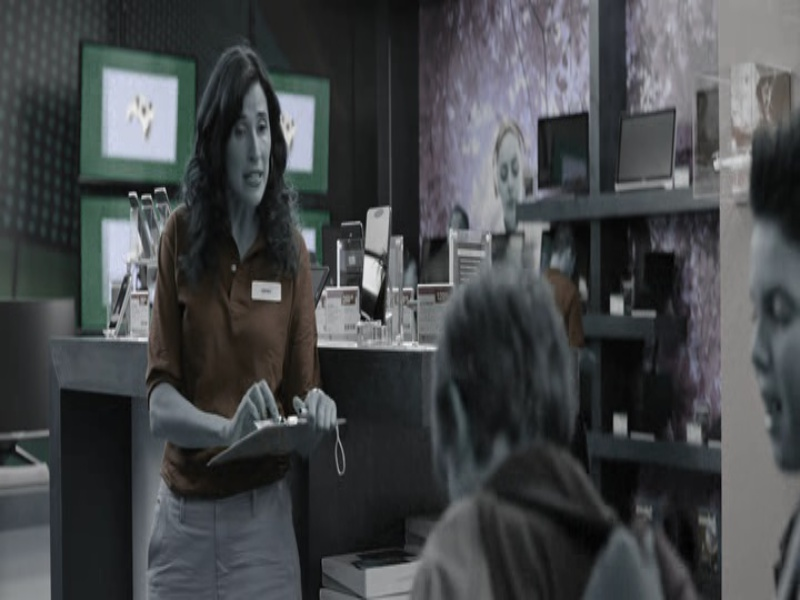TsisyArotava: (198, 71, 301, 216)
